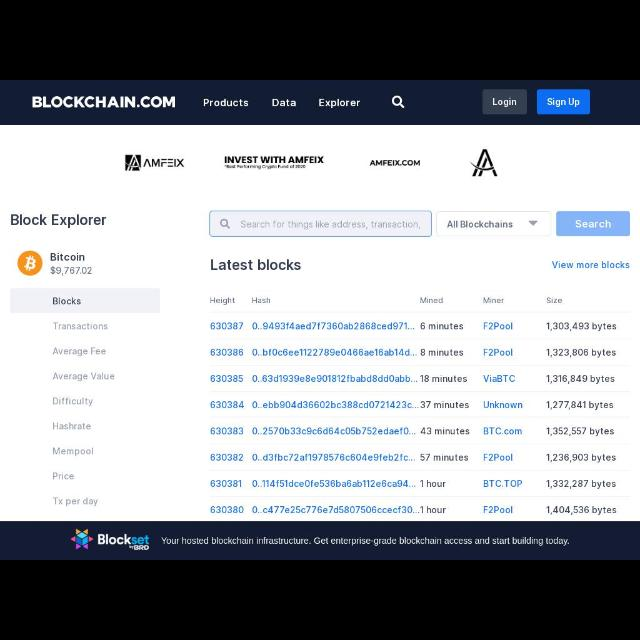icon: (392, 95, 404, 108), (220, 218, 232, 228), (528, 220, 538, 226)
image: (70, 528, 150, 554), (470, 150, 496, 178), (18, 252, 42, 274), (126, 155, 142, 171)
input: (210, 211, 432, 237)
spinner: (436, 212, 552, 235)
text: (162, 537, 570, 545), (210, 375, 616, 383), (210, 480, 616, 488), (211, 506, 617, 514), (212, 323, 616, 331), (211, 454, 615, 462), (211, 428, 614, 436), (213, 349, 615, 356), (210, 402, 612, 408), (33, 96, 175, 108), (242, 221, 420, 229), (224, 156, 324, 170), (212, 260, 300, 272), (11, 215, 107, 225), (552, 260, 630, 268), (447, 220, 513, 228), (54, 372, 114, 380), (54, 497, 98, 507), (54, 322, 108, 330), (54, 348, 106, 356), (144, 158, 184, 168), (371, 160, 421, 167), (50, 266, 92, 274), (320, 98, 360, 106), (53, 398, 93, 406), (54, 447, 94, 455), (50, 253, 84, 261), (204, 100, 248, 106), (54, 296, 80, 306), (53, 423, 91, 429), (273, 98, 297, 105), (54, 472, 74, 480), (211, 298, 235, 304), (421, 297, 443, 303), (252, 298, 270, 304), (546, 298, 562, 304), (484, 298, 504, 302)
textbutton: (557, 212, 631, 236), (538, 88, 590, 114), (482, 89, 526, 113)
toolbar: (0, 80, 640, 124)
